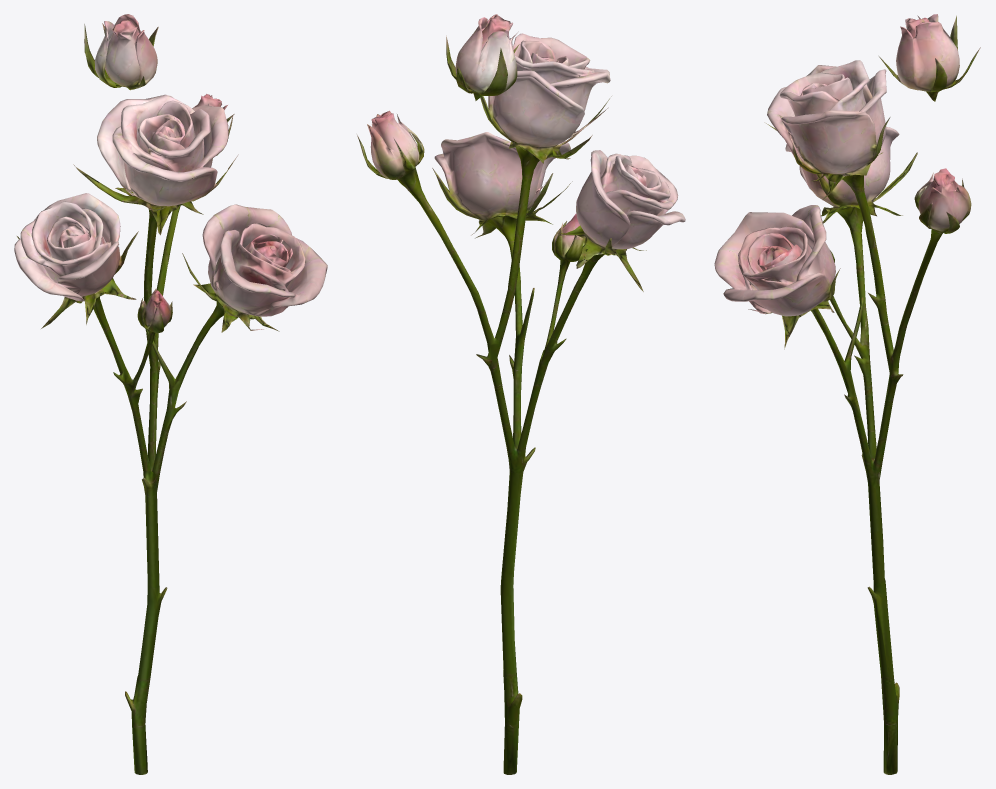
File: pink.glb
3 renders of one model, left to right at view 1: azimuth 30°, elevation 25°; view 2: azimuth 150°, elevation 25°; view 3: azimuth 270°, elevation 25°, orthographic. The views are drawn at different scales.
Bounding box in the file's own units: 0.7083 × 1.9 × 0.6088.
1 material, 1 textured.
